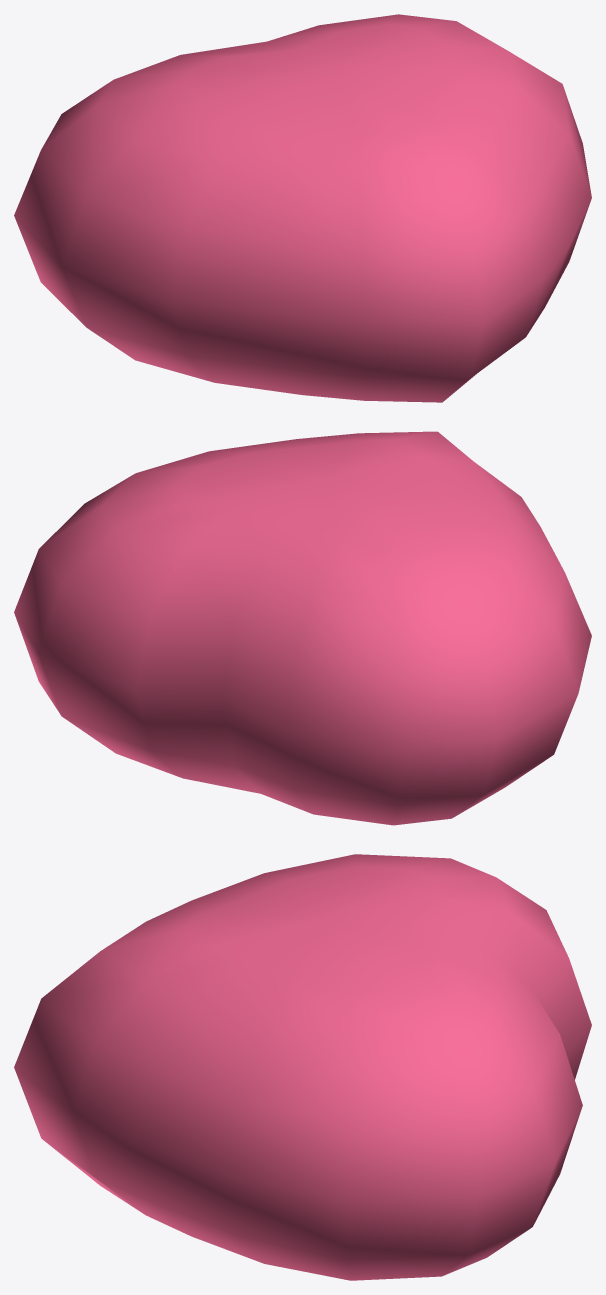
File: candy_assets46.fbx
3 renders of one model, top to bottom at view 1: azimuth 30°, elevation 25°; view 2: azimuth 150°, elevation 25°; view 3: azimuth 270°, elevation 25°, orthographic. The views are drawn at different scales.
Visible parts, largest first — view 1: candy_assets46; view 2: candy_assets46; view 3: candy_assets46.
Part boxes in pixels (<box>): candy_assets46: <box>14,14,591,402</box>; candy_assets46: <box>14,431,591,825</box>; candy_assets46: <box>14,854,591,1280</box>.
Bounding box in the file's own units: 498 × 261 × 455.
Materials: 1 (1 with a texture image).
